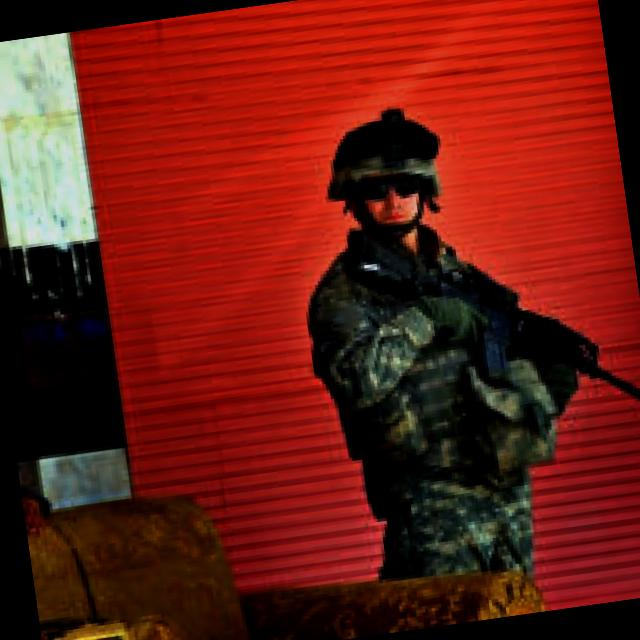m16: (303, 188, 640, 487)
